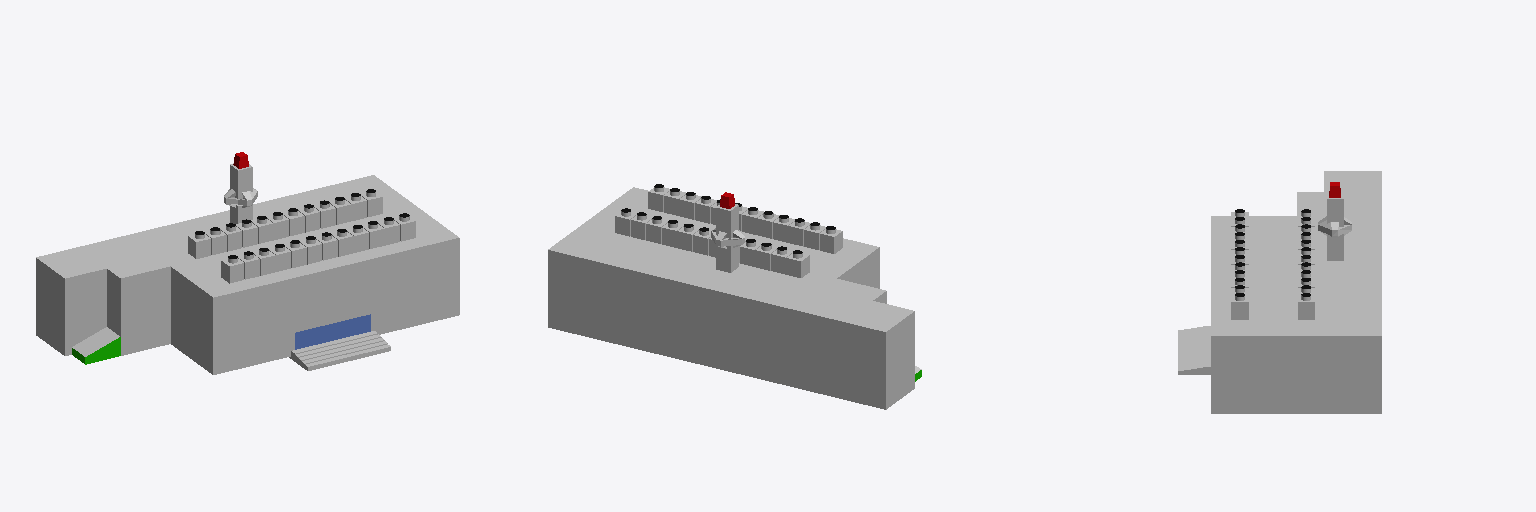
Rendered from 중앙기계실.obj.
3 views of the same model, side by side, from view 1: azimuth 30°, elevation 25°; view 2: azimuth 150°, elevation 25°; view 3: azimuth 270°, elevation 25° (orthographic).
Visible parts, largest first — view 1: 큐브.006_큐브.009, 큐브.007_큐브.010, 큐브.008_큐브.011, 큐브.009_큐브.012; view 2: 큐브.006_큐브.009, 큐브.007_큐브.010, 큐브.008_큐브.011, 큐브.009_큐브.012; view 3: 큐브.006_큐브.009, 큐브.007_큐브.010, 큐브.008_큐브.011, 큐브.009_큐브.012.
Part boxes in pixels (x1,y1,x2,y2): 큐브.006_큐브.009: (36,175,459,374); 큐브.007_큐브.010: (221,213,415,283); 큐브.008_큐브.011: (188,189,382,258); 큐브.009_큐브.012: (224,152,257,223); 큐브.006_큐브.009: (548,187,921,409); 큐브.007_큐브.010: (648,184,842,253); 큐브.008_큐브.011: (615,208,809,277); 큐브.009_큐브.012: (711,192,744,272); 큐브.006_큐브.009: (1178,171,1381,413); 큐브.007_큐브.010: (1231,209,1248,319); 큐브.008_큐브.011: (1298,209,1314,319); 큐브.009_큐브.012: (1318,182,1351,260).
Size of the model in its own units: 45.55 by 20.11 by 23.87.